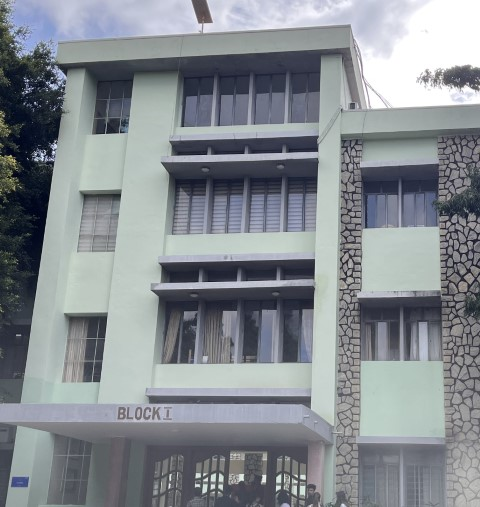Block 1: (35, 23, 480, 507)
